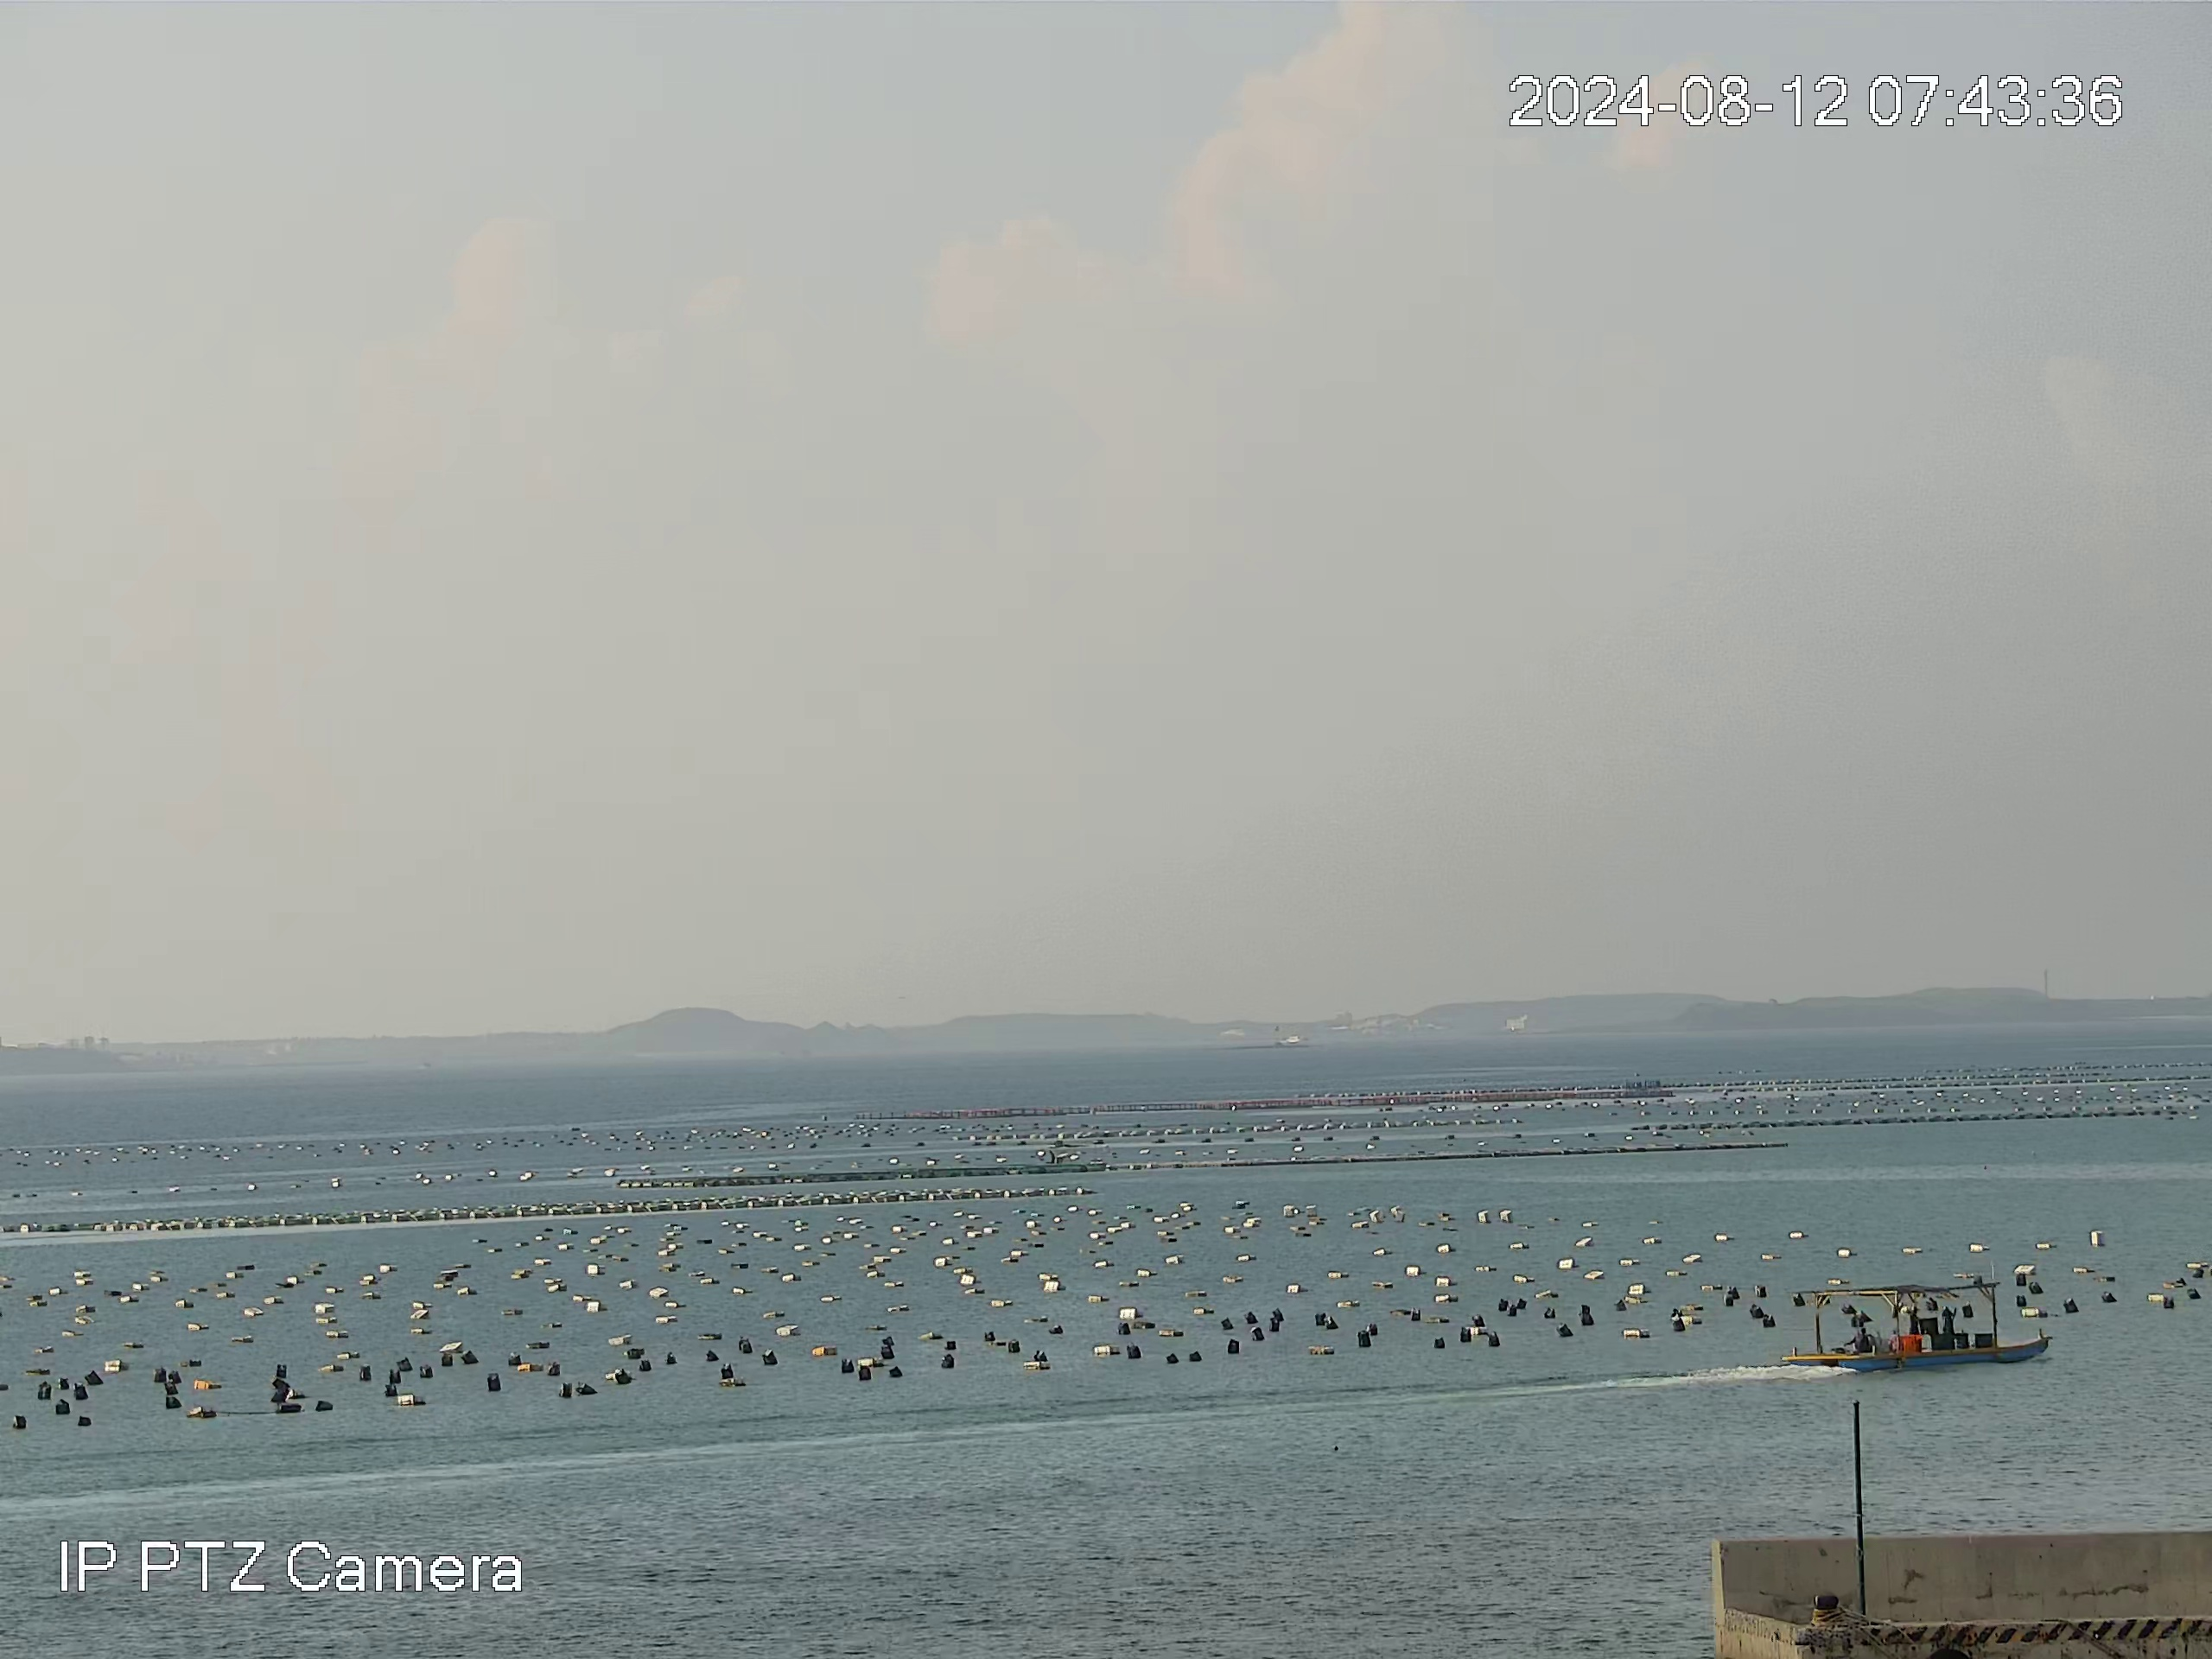boat: (1780, 1272, 2054, 1377)
